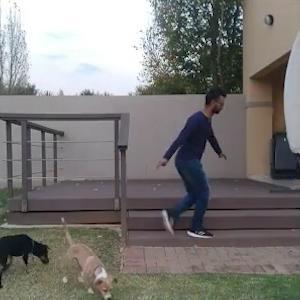land: (114, 77, 237, 255)
